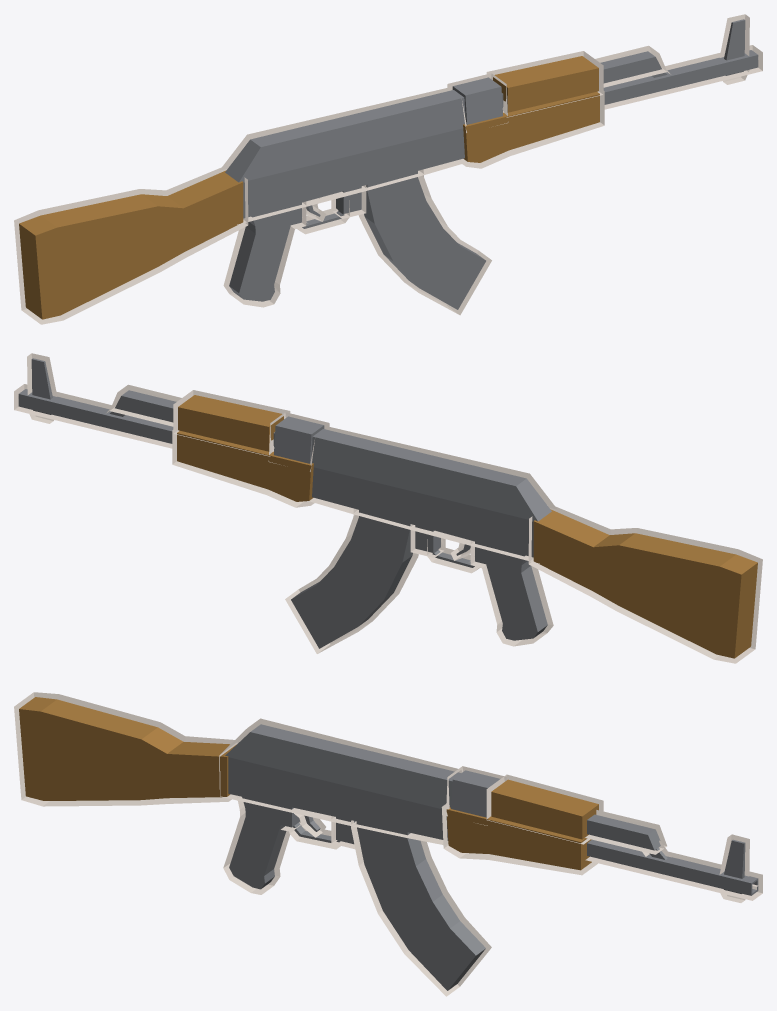
3 views of the same model, one above another, from view 1: azimuth 30°, elevation 25°; view 2: azimuth 150°, elevation 25°; view 3: azimuth 330°, elevation 25° (orthographic).
Parts seen in each view (by area): view 1: AK47, Outline; view 2: AK47, Outline; view 3: AK47, Outline.
Part boxes in pixels (bbox=[...]): AK47: bbox=[19, 19, 758, 319]; Outline: bbox=[14, 14, 762, 324]; AK47: bbox=[18, 358, 757, 658]; Outline: bbox=[14, 353, 762, 663]; AK47: bbox=[19, 697, 758, 990]; Outline: bbox=[14, 692, 762, 996].
Bounding box in the file's own units: 10.08 × 2.93 × 0.5567.
